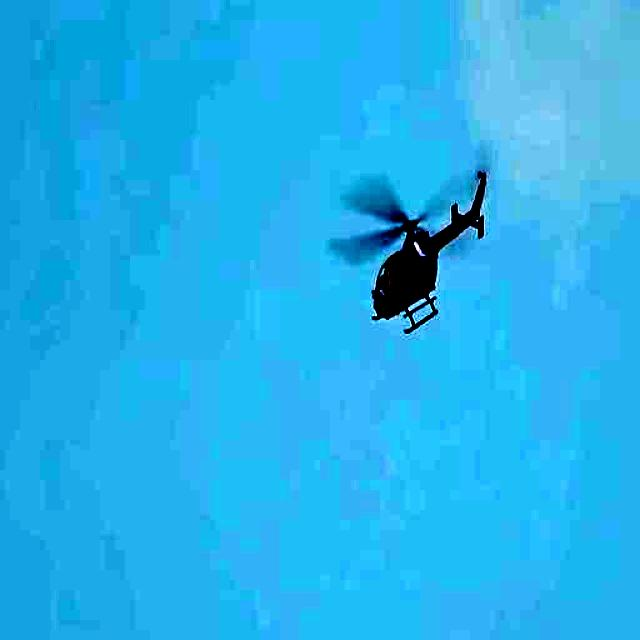drone: (354, 128, 511, 376)
